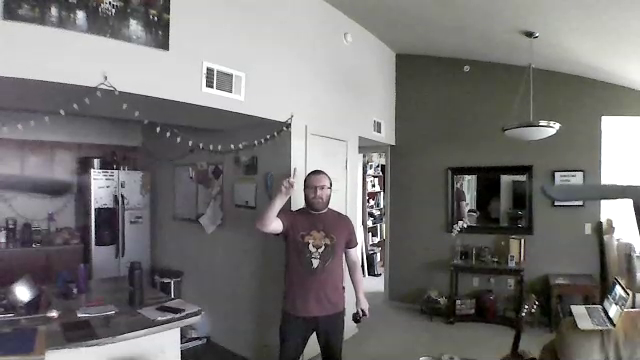up: (275, 161, 299, 192)
